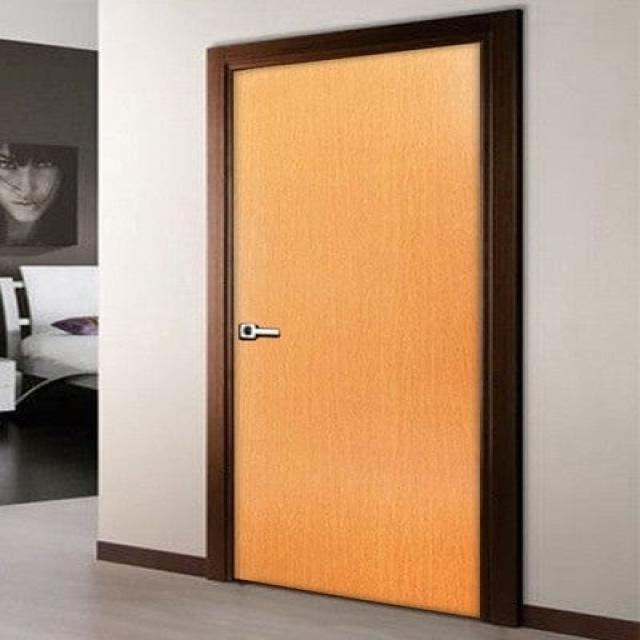door: (218, 14, 497, 620)
